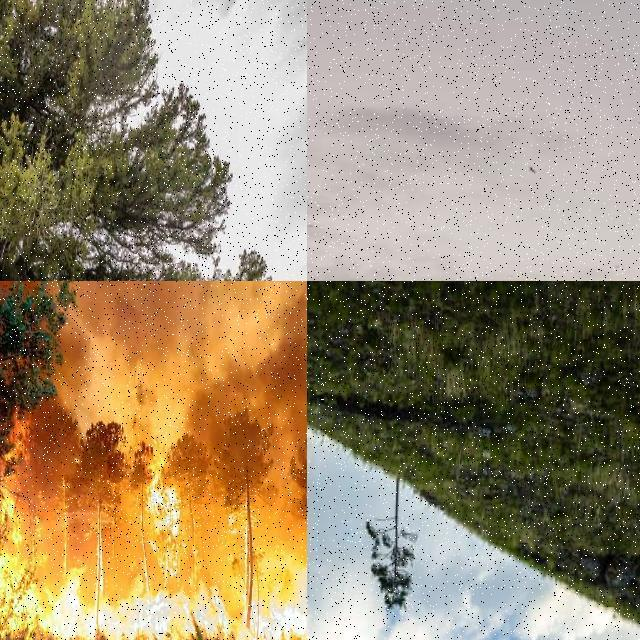tree: (0, 0, 268, 280), (0, 281, 92, 623), (216, 404, 278, 640), (71, 413, 133, 605), (158, 426, 218, 602), (364, 506, 414, 618), (128, 438, 156, 598), (287, 424, 307, 640)
